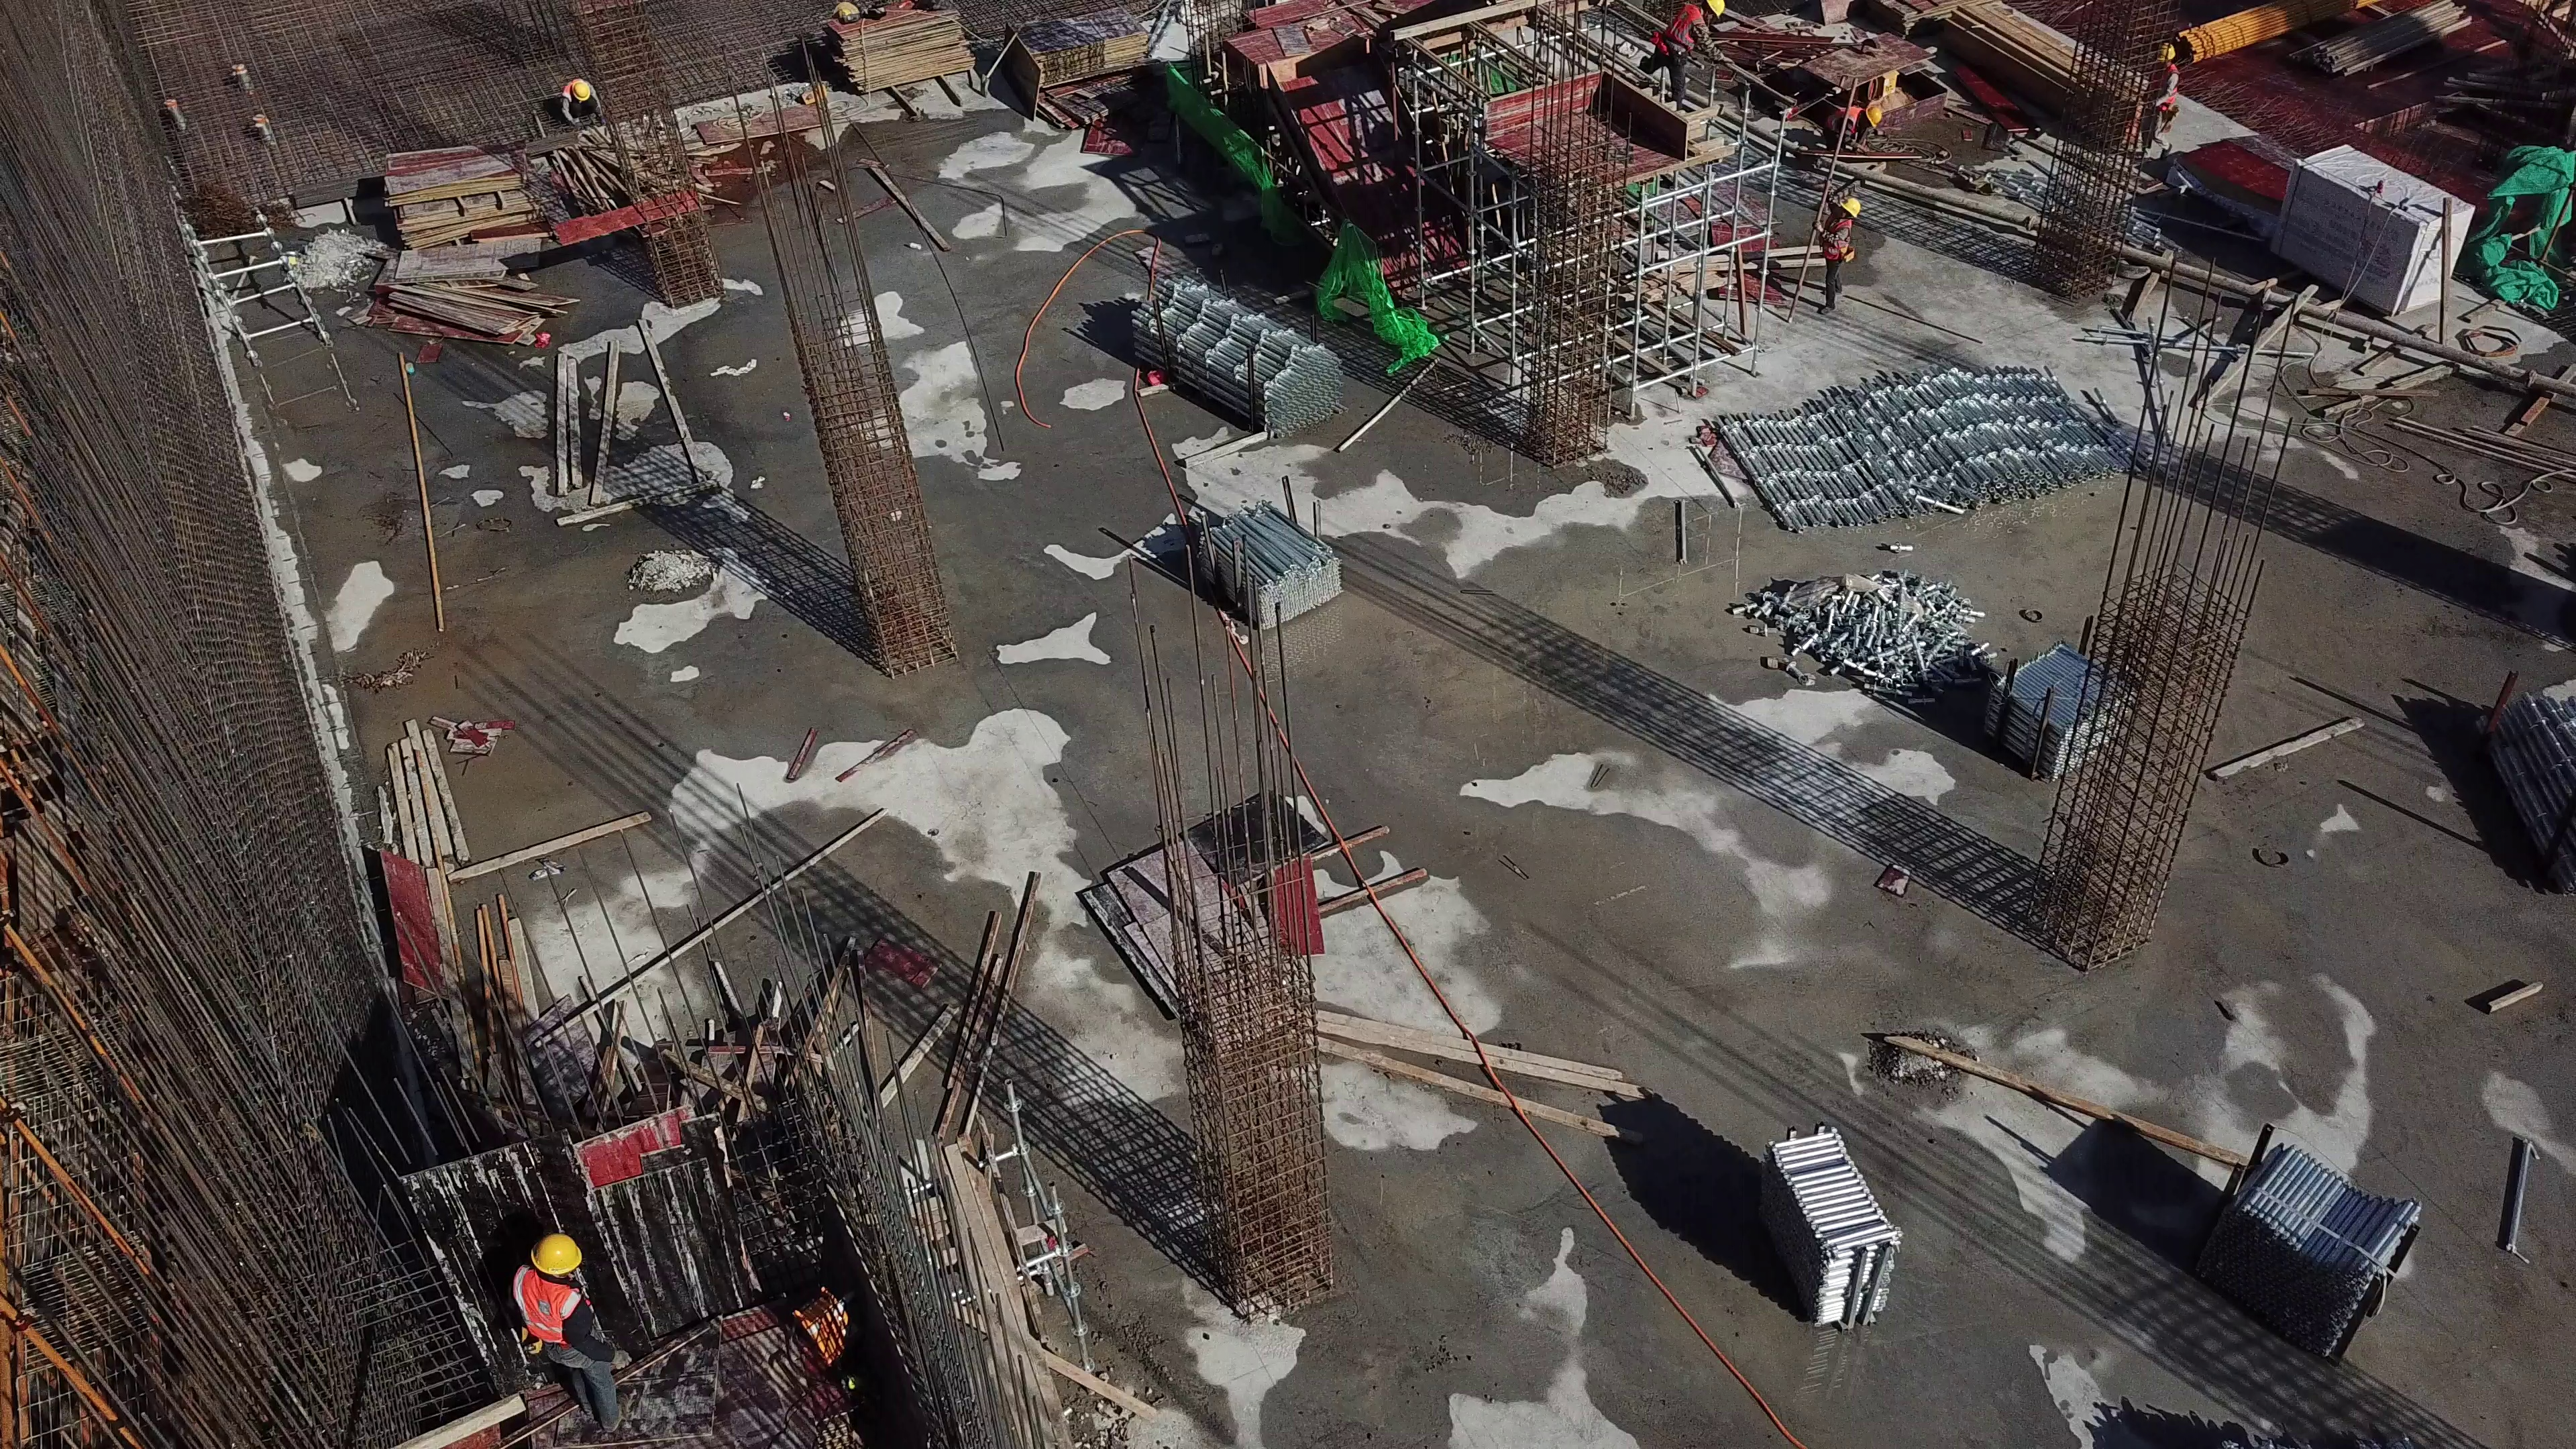board: (1070, 790, 1331, 1020), (370, 245, 572, 352), (381, 144, 552, 255), (817, 1, 977, 95), (1007, 8, 1152, 111), (693, 111, 835, 144)
ebox: (798, 1289, 859, 1371)
helmet: (530, 1232, 583, 1280), (1706, 1, 1729, 23), (1839, 199, 1864, 219), (569, 81, 590, 108), (1866, 101, 1880, 129), (2153, 42, 2173, 62)
person: (498, 1228, 631, 1449), (1629, 13, 1720, 110), (1816, 198, 1864, 315), (2145, 41, 2182, 153), (1821, 103, 1887, 155), (553, 74, 606, 126)
scaffold: (1725, 561, 2140, 781), (1720, 347, 2172, 527), (2174, 1123, 2437, 1344), (1122, 267, 1348, 437), (1762, 1125, 1902, 1364), (2465, 673, 2576, 905), (1180, 488, 1359, 626)
vest: (516, 1268, 576, 1350), (1653, 1, 1701, 60), (1819, 213, 1847, 265), (2158, 66, 2180, 115), (1826, 108, 1856, 138)
